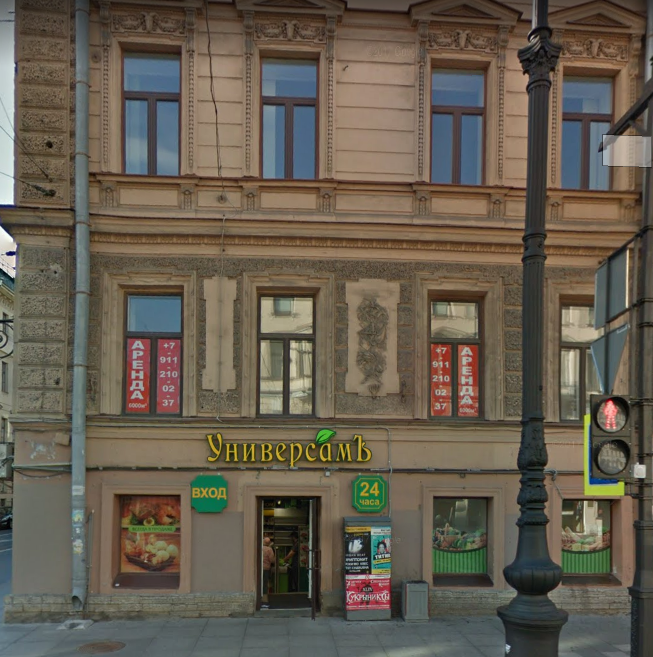door: (253, 494, 317, 614)
signboard: (200, 424, 375, 467), (187, 473, 235, 513), (348, 473, 389, 513)
win_ad: (119, 496, 179, 577), (427, 338, 484, 417), (124, 335, 180, 415), (433, 496, 487, 575), (564, 500, 610, 577)
window: (119, 35, 184, 180), (425, 57, 495, 189), (256, 46, 321, 183), (258, 290, 320, 423), (426, 294, 486, 423), (426, 487, 498, 592), (126, 288, 181, 416), (561, 61, 614, 191), (556, 493, 624, 590), (116, 492, 179, 585), (562, 300, 598, 420)
